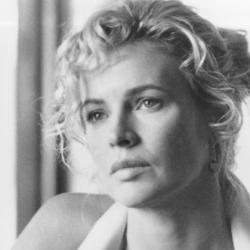face: (33, 3, 247, 207)
